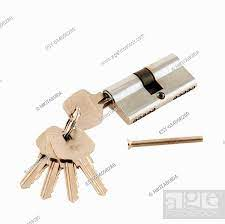key: (50, 128, 107, 203)
